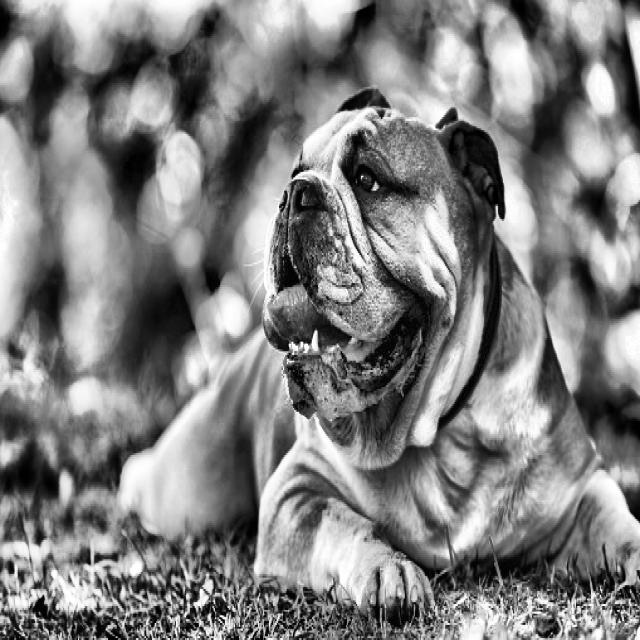bulldog: (238, 70, 524, 482)
